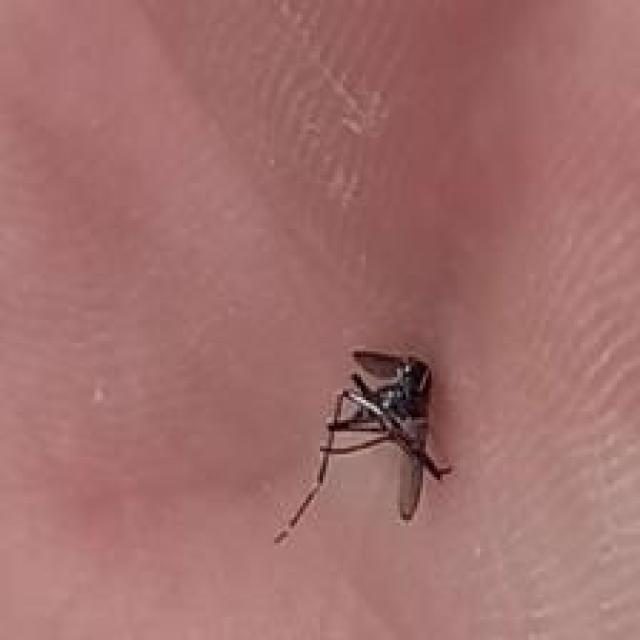Aedes albopictus: (273, 347, 453, 544)
